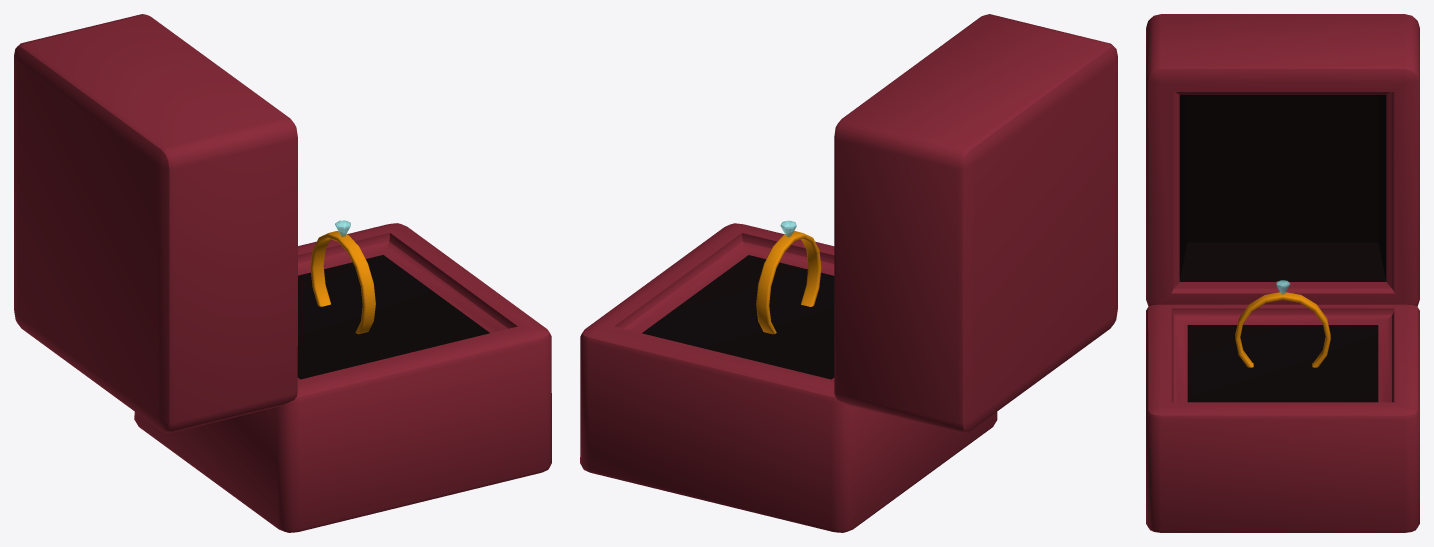
The model's file is ring.glb.
3 renders of one model, left to right at view 1: azimuth 30°, elevation 25°; view 2: azimuth 150°, elevation 25°; view 3: azimuth 270°, elevation 25°, orthographic. The views are drawn at different scales.
Visible parts, largest first — view 1: Cube.001, Cube, Cylinder; view 2: Cube.001, Cube, Cylinder; view 3: Cube.001, Cube, Cylinder.
Boxes of the visible parts, left/top/right/bottom form: Cube.001: left=14, top=14, right=297, bottom=433; Cube: left=134, top=223, right=551, bottom=532; Cylinder: left=310, top=231, right=375, bottom=334; Cube.001: left=834, top=14, right=1117, bottom=433; Cube: left=580, top=223, right=997, bottom=532; Cylinder: left=756, top=231, right=821, bottom=334; Cube.001: left=1146, top=14, right=1419, bottom=306; Cube: left=1146, top=304, right=1419, bottom=532; Cylinder: left=1235, top=292, right=1330, bottom=367.
Size of the model in its own units: 0.1645 by 0.1662 by 0.1145.
